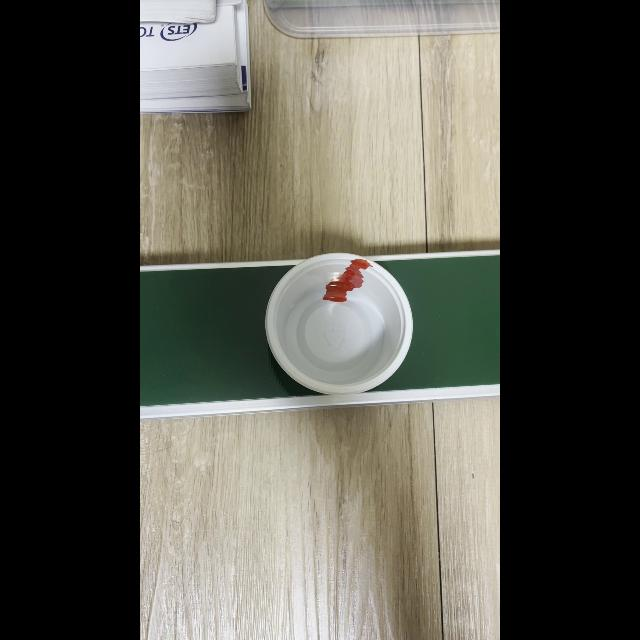dirty: (266, 253, 410, 392)
